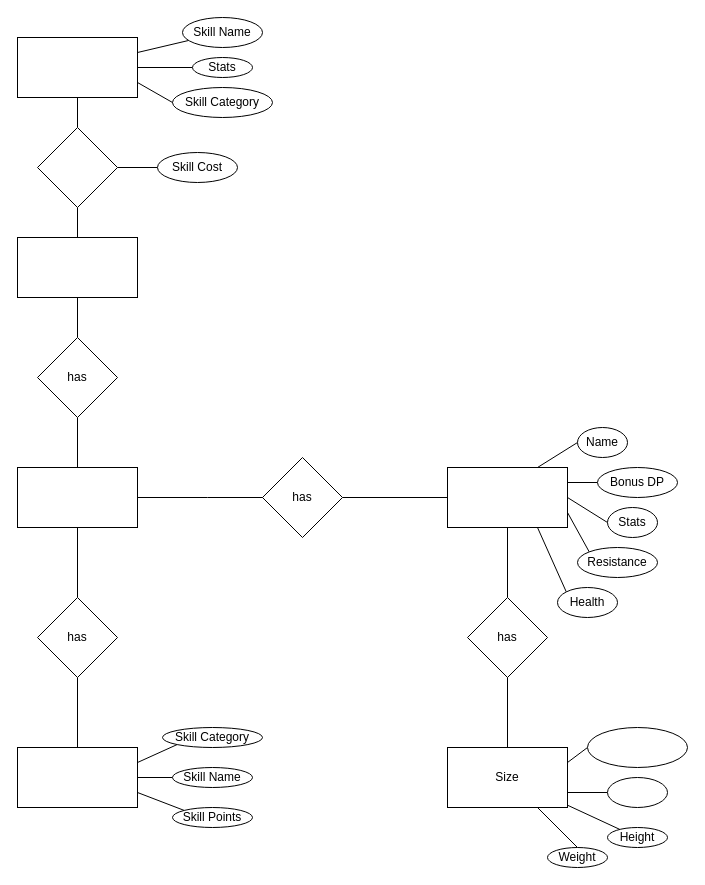
Image size: 705x885. Some labels were removed from this diagram. Here are the shapes that lost their labels. From the top down, the box of each, then its label:
(16, 36, 138, 98): Skill
(36, 126, 118, 208): defines per
(16, 236, 138, 298): Profession
(16, 466, 138, 528): Character
(446, 466, 568, 528): Race
(586, 726, 688, 768): Size categorie
(16, 746, 138, 808): Cultur
(606, 776, 668, 808): Stride
